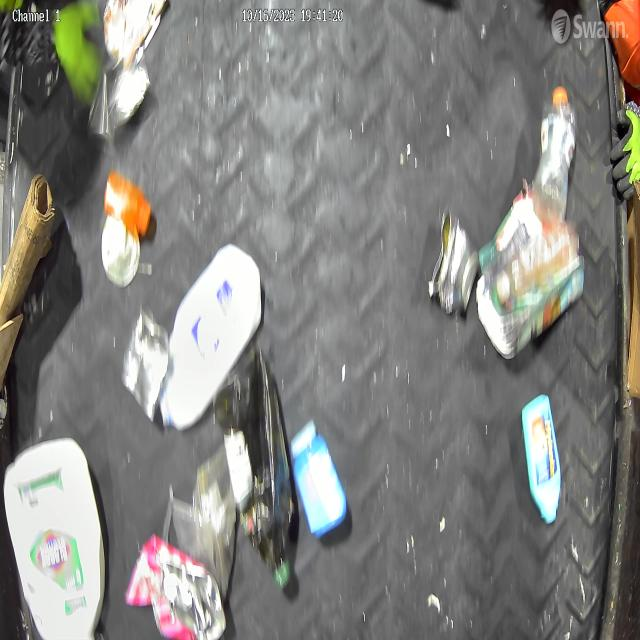can: (428, 205, 481, 317), (120, 304, 170, 422)
milk_jug: (159, 242, 262, 428)
non_white_jug: (3, 434, 108, 640)
plastic_bottle: (532, 84, 578, 226)
